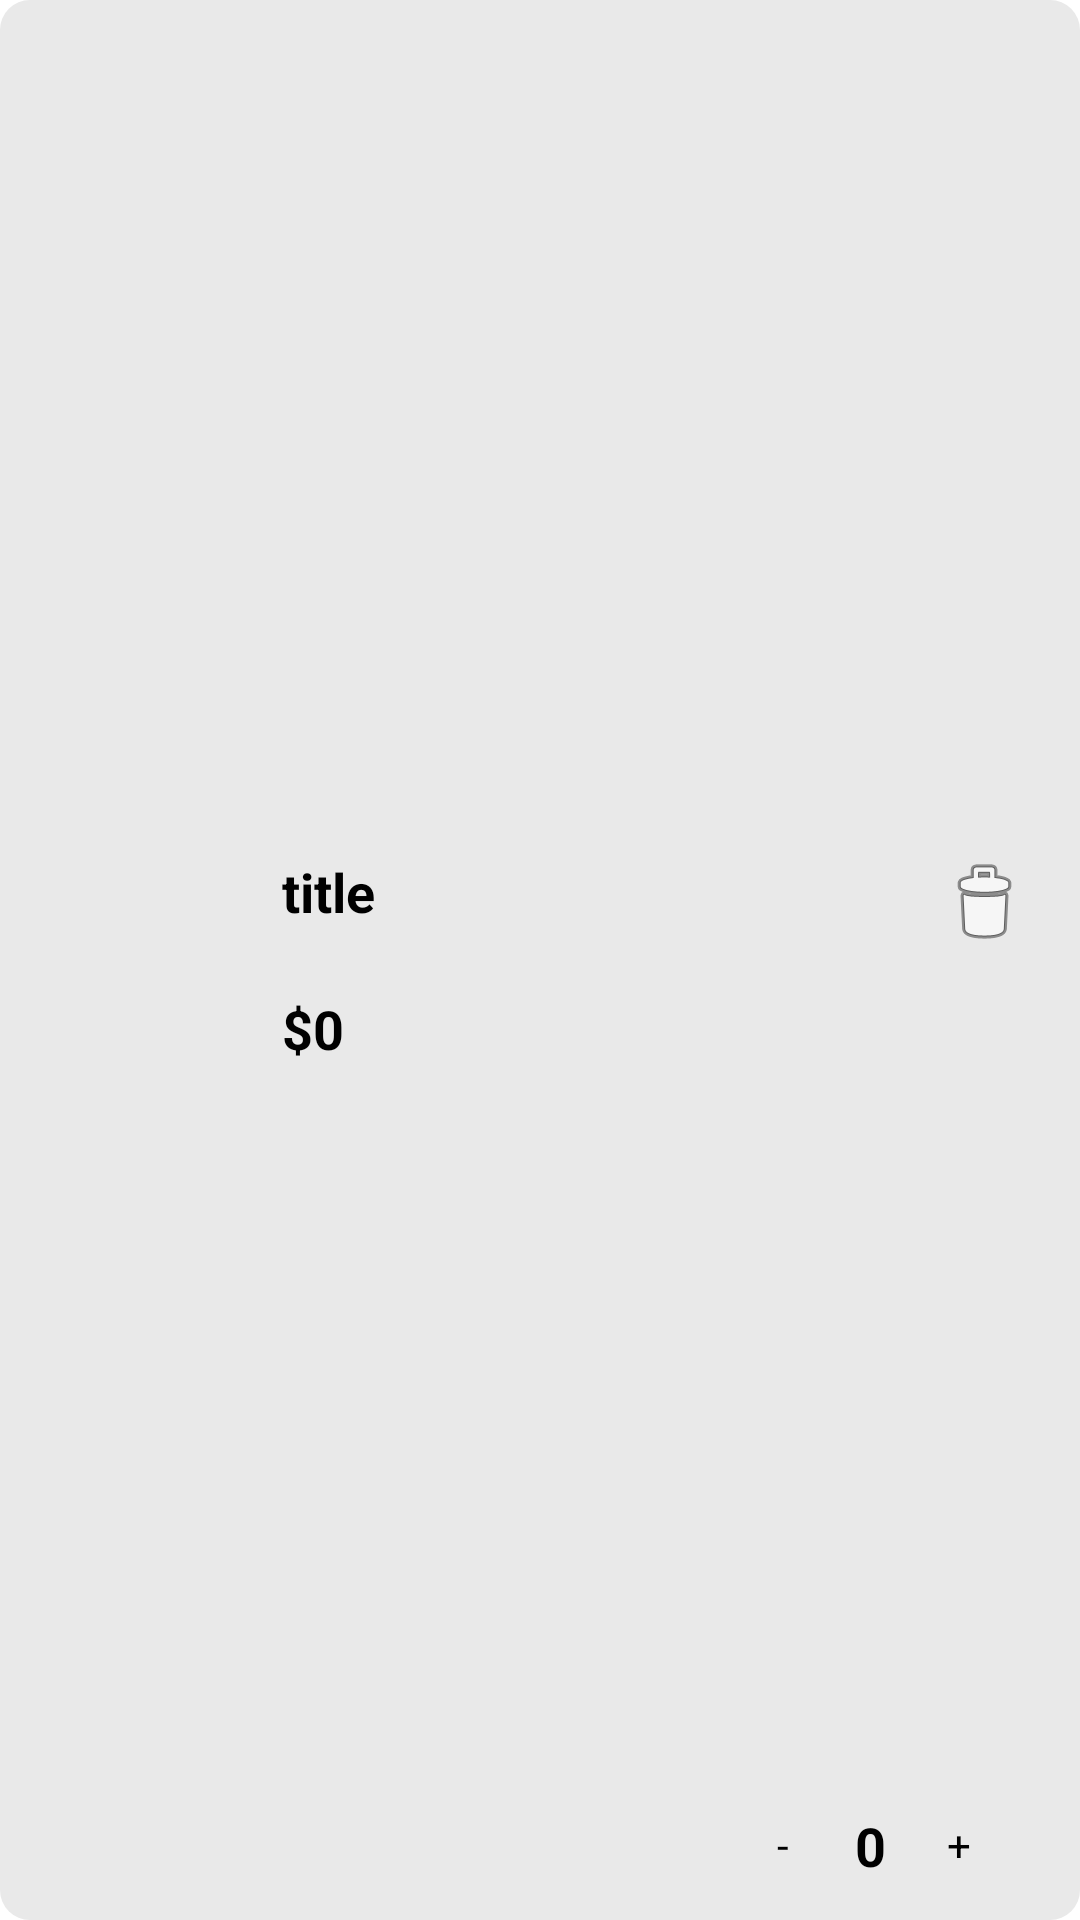

Locate icon controls on the screen. Image size 1080×1920, boxes as (x1, y1, x2, y2).
delete: (957, 864, 1012, 939)
